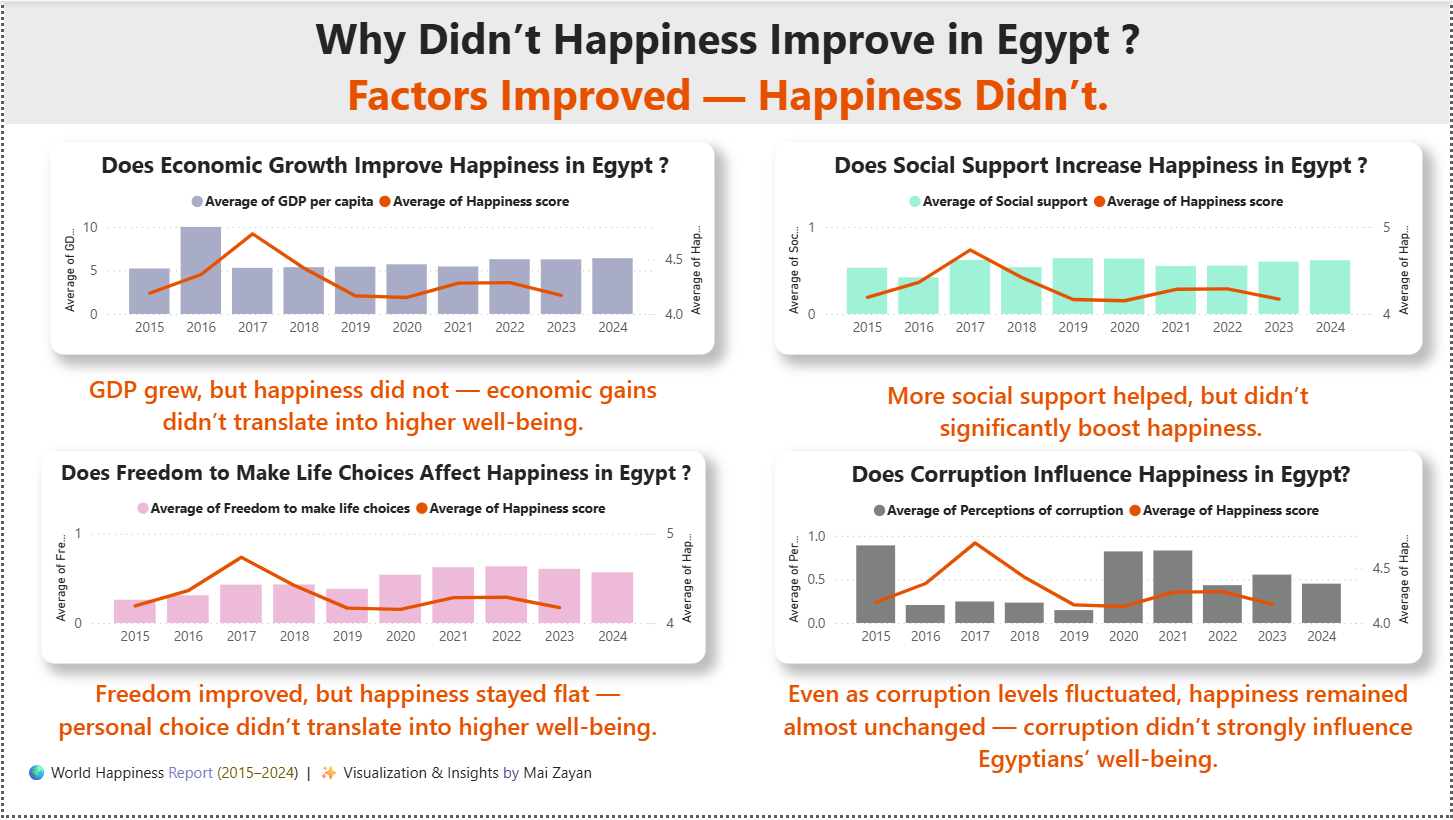

The page's visual inventory and layout, read from the dashboard file:
{"tool":"powerbi","page":{"name":"🇪🇬 Egypt Factors","canvas":[1280,720],"ordinal":5},"visuals":[{"type":"lineStackedColumnComboChart","title":"Does Economic Growth Improve Happiness in Egypt ?","fields":{"Y":["Avg(Fact_Egypt.GDP per capita)"],"Category":["Dim_Year.Year"],"Y2":["Avg(Fact_Egypt.Happiness score)"]},"box":[40.9,124.2,587.5,187.8],"z":0},{"type":"shape","box":[0,1.5,1279.5,107.5],"z":1000},{"type":"textbox","box":[42.4,322.5,567.8,75.7],"z":2000},{"type":"lineStackedColumnComboChart","title":"Does Social Support Increase Happiness in Egypt ?","fields":{"Category":["Dim_Year.Year"],"Y":["Avg(Fact_Egypt.Social support)"],"Y2":["Avg(Fact_Egypt.Happiness score)"]},"box":[681.4,124.2,572.4,187.8],"z":3000},{"type":"textbox","box":[687.4,327.1,560.3,71.2],"z":4000},{"type":"lineStackedColumnComboChart","title":"Does Freedom to Make Life Choices Affect Happiness in Egypt ?","fields":{"Category":["Dim_Year.Year"],"Y":["Avg(Fact_Egypt.Freedom to make life choices)"],"Y2":["Avg(Fact_Egypt.Happiness score)"]},"box":[33.3,398.2,587.5,187.8],"z":5000},{"type":"textbox","box":[42.4,592.1,540.6,75.7],"z":6000},{"type":"lineStackedColumnComboChart","title":"Does Corruption Influence Happiness in Egypt?","fields":{"Category":["Dim_Year.Year"],"Y":["Avg(Fact_Egypt.Perceptions of corruption)"],"Y2":["Avg(Fact_Egypt.Happiness score)"]},"box":[681.4,398.2,572.4,187.8],"z":7000},{"type":"textbox","box":[663.2,592.1,608.7,104.5],"z":8000},{"type":"textbox","box":[222.6,1.5,834.3,109],"z":9000},{"type":"textbox","box":[15.1,667.8,593.6,51.5],"z":10000}]}

Visuals, with their boxes in screenshot pixels (x1, y1, x2, y2), scaled from the page's 1280x720 canvas onto the 1453x820 screenshot:
"Does Economic Growth Improve Happiness in Egypt ?" lineStackedColumnComboChart: x1=46, y1=141, x2=713, y2=355
shape: x1=0, y1=2, x2=1452, y2=124
textbox: x1=48, y1=367, x2=693, y2=454
"Does Social Support Increase Happiness in Egypt ?" lineStackedColumnComboChart: x1=773, y1=141, x2=1423, y2=355
textbox: x1=780, y1=373, x2=1416, y2=454
"Does Freedom to Make Life Choices Affect Happiness in Egypt ?" lineStackedColumnComboChart: x1=38, y1=454, x2=705, y2=667
textbox: x1=48, y1=674, x2=662, y2=761
"Does Corruption Influence Happiness in Egypt?" lineStackedColumnComboChart: x1=773, y1=454, x2=1423, y2=667
textbox: x1=753, y1=674, x2=1444, y2=793
textbox: x1=253, y1=2, x2=1200, y2=126
textbox: x1=17, y1=761, x2=691, y2=819
